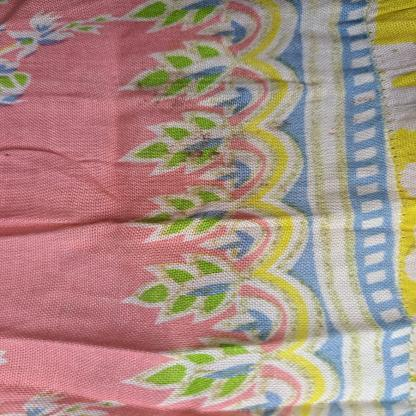spot: (125, 54, 209, 119), (165, 127, 237, 168), (265, 117, 299, 138), (256, 182, 291, 194), (3, 151, 15, 157), (240, 308, 249, 314)
